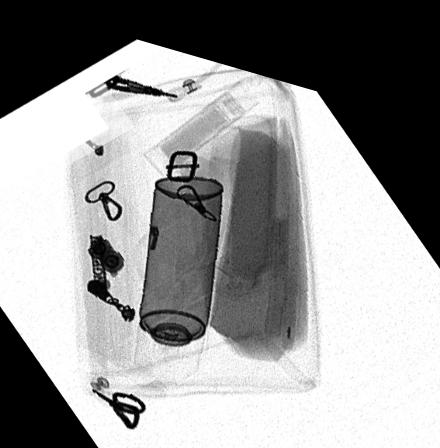Sprayer: (135, 163, 224, 372)
